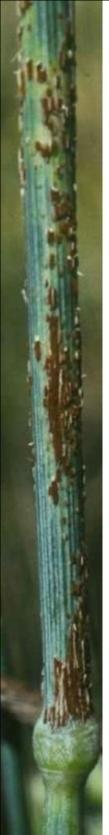Wheat: (28, 17, 81, 256), (36, 288, 83, 497), (41, 566, 96, 715)
